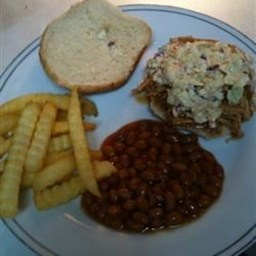background: (0, 0, 102, 93)
